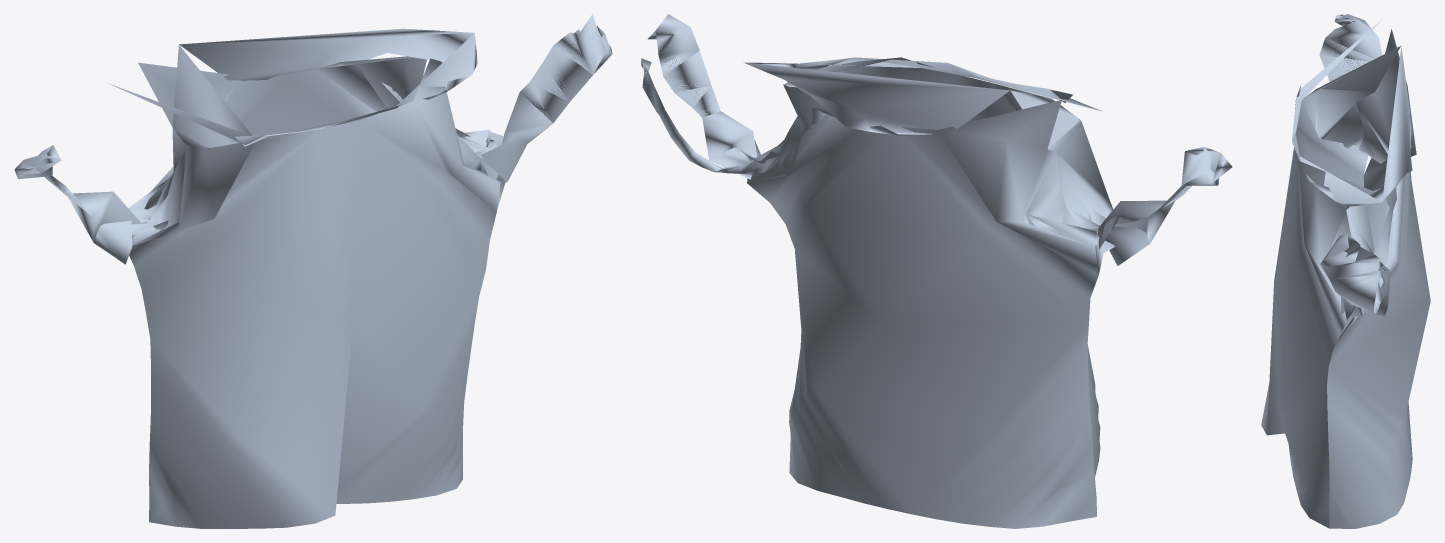
Rendered from frame_029.glb.
3 views of the same model, side by side, from view 1: azimuth 30°, elevation 25°; view 2: azimuth 150°, elevation 25°; view 3: azimuth 270°, elevation 25° (orthographic). The views are drawn at different scales.
Parts seen in each view (by area): view 1: panel.front, panel.back, panel.neck_band, panel.sleeve.right, panel.sleeve.left; view 2: panel.back, panel.neck_band, panel.front, panel.sleeve.right, panel.sleeve.left; view 3: panel.back, panel.front, panel.neck_band, panel.sleeve.right, panel.sleeve.left.
Boxes of the visible parts, x1,y1,x2,y2 form: panel.front: [129, 45, 500, 528]; panel.back: [128, 58, 505, 219]; panel.neck_band: [108, 28, 579, 146]; panel.sleeve.right: [481, 14, 612, 182]; panel.sleeve.left: [14, 145, 140, 264]; panel.back: [740, 86, 1099, 528]; panel.neck_band: [641, 57, 1102, 174]; panel.front: [784, 57, 1115, 513]; panel.sleeve.right: [648, 14, 760, 179]; panel.sleeve.left: [1098, 147, 1232, 265]; panel.back: [1327, 29, 1430, 528]; panel.front: [1261, 46, 1400, 528]; panel.neck_band: [1292, 19, 1412, 317]; panel.sleeve.right: [1320, 233, 1384, 320]; panel.sleeve.left: [1319, 14, 1382, 144].
Bounding box in the file's own units: 1.05 × 0.7887 × 0.315.
